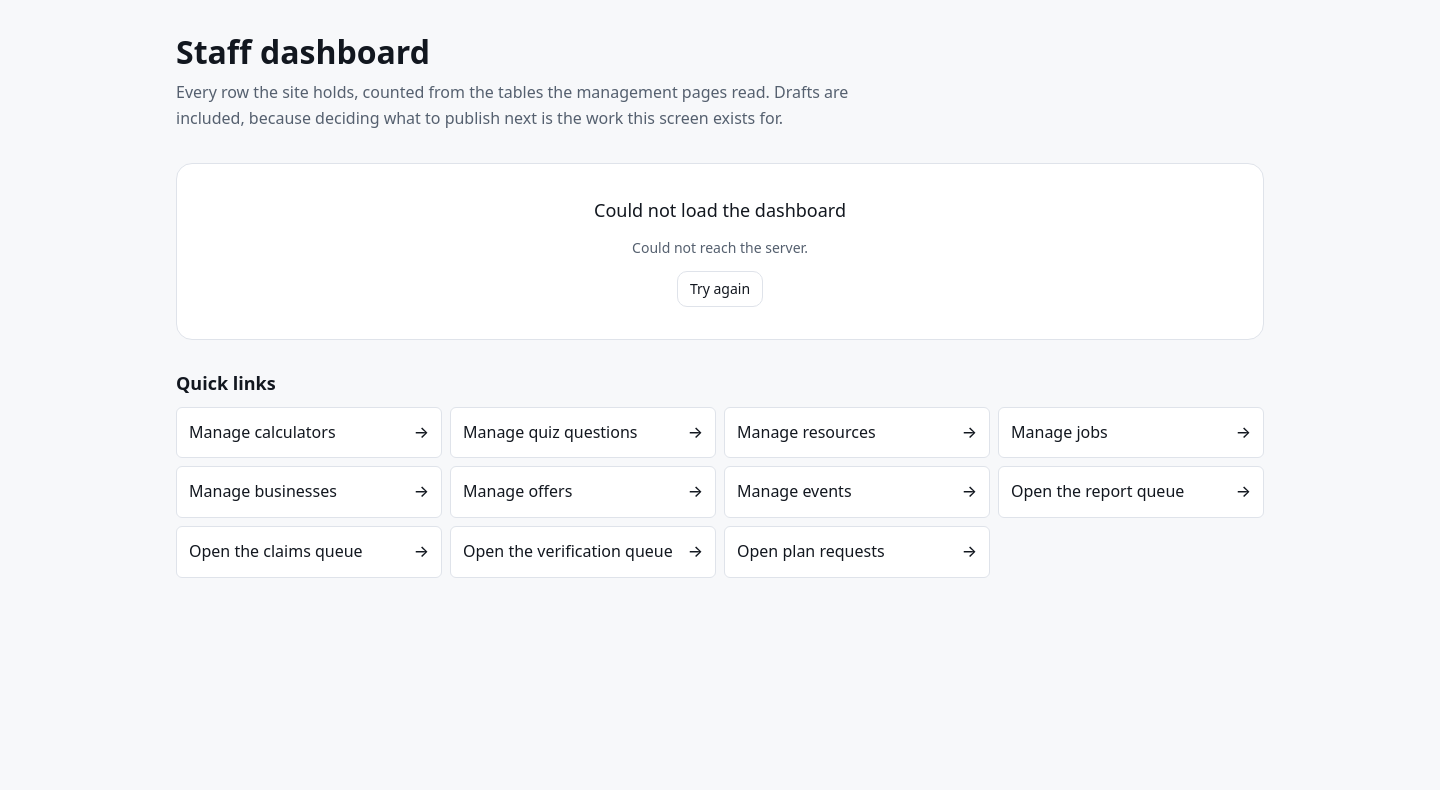
Test case: StaffDashboardPage › offers a retry when the counts cannot be loaded
Expected: the text "Could not load the dashboard" is shown, x1=594 y1=196 x2=846 y2=225
Expected: the text "Could not reach the server." is shown, x1=632 y1=237 x2=808 y2=259
Click the button "Try again" at (720, 289), box x1=677 y1=271 x2=763 y2=307
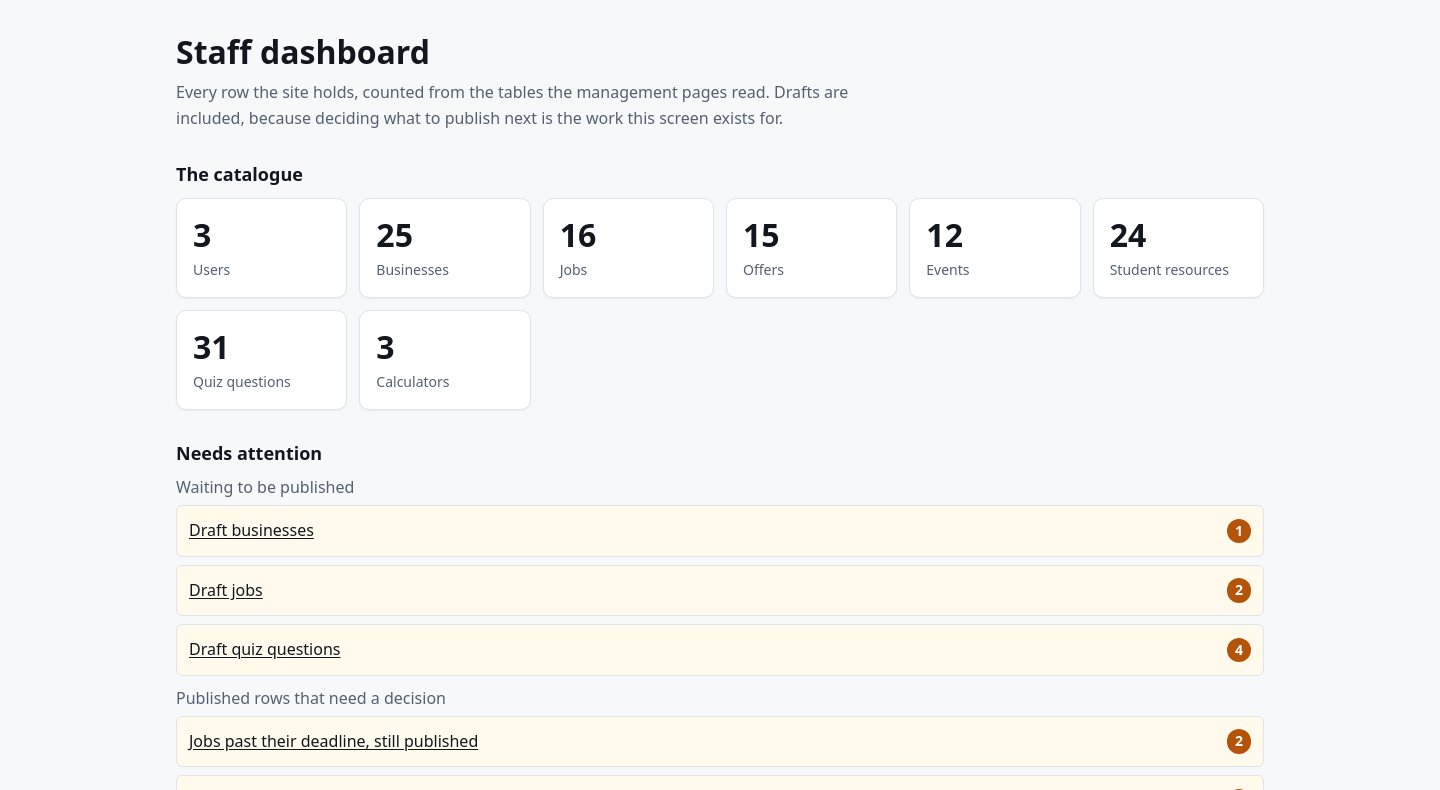
Result: the link "Draft jobs" is shown at x1=189 y1=578 x2=263 y2=603
